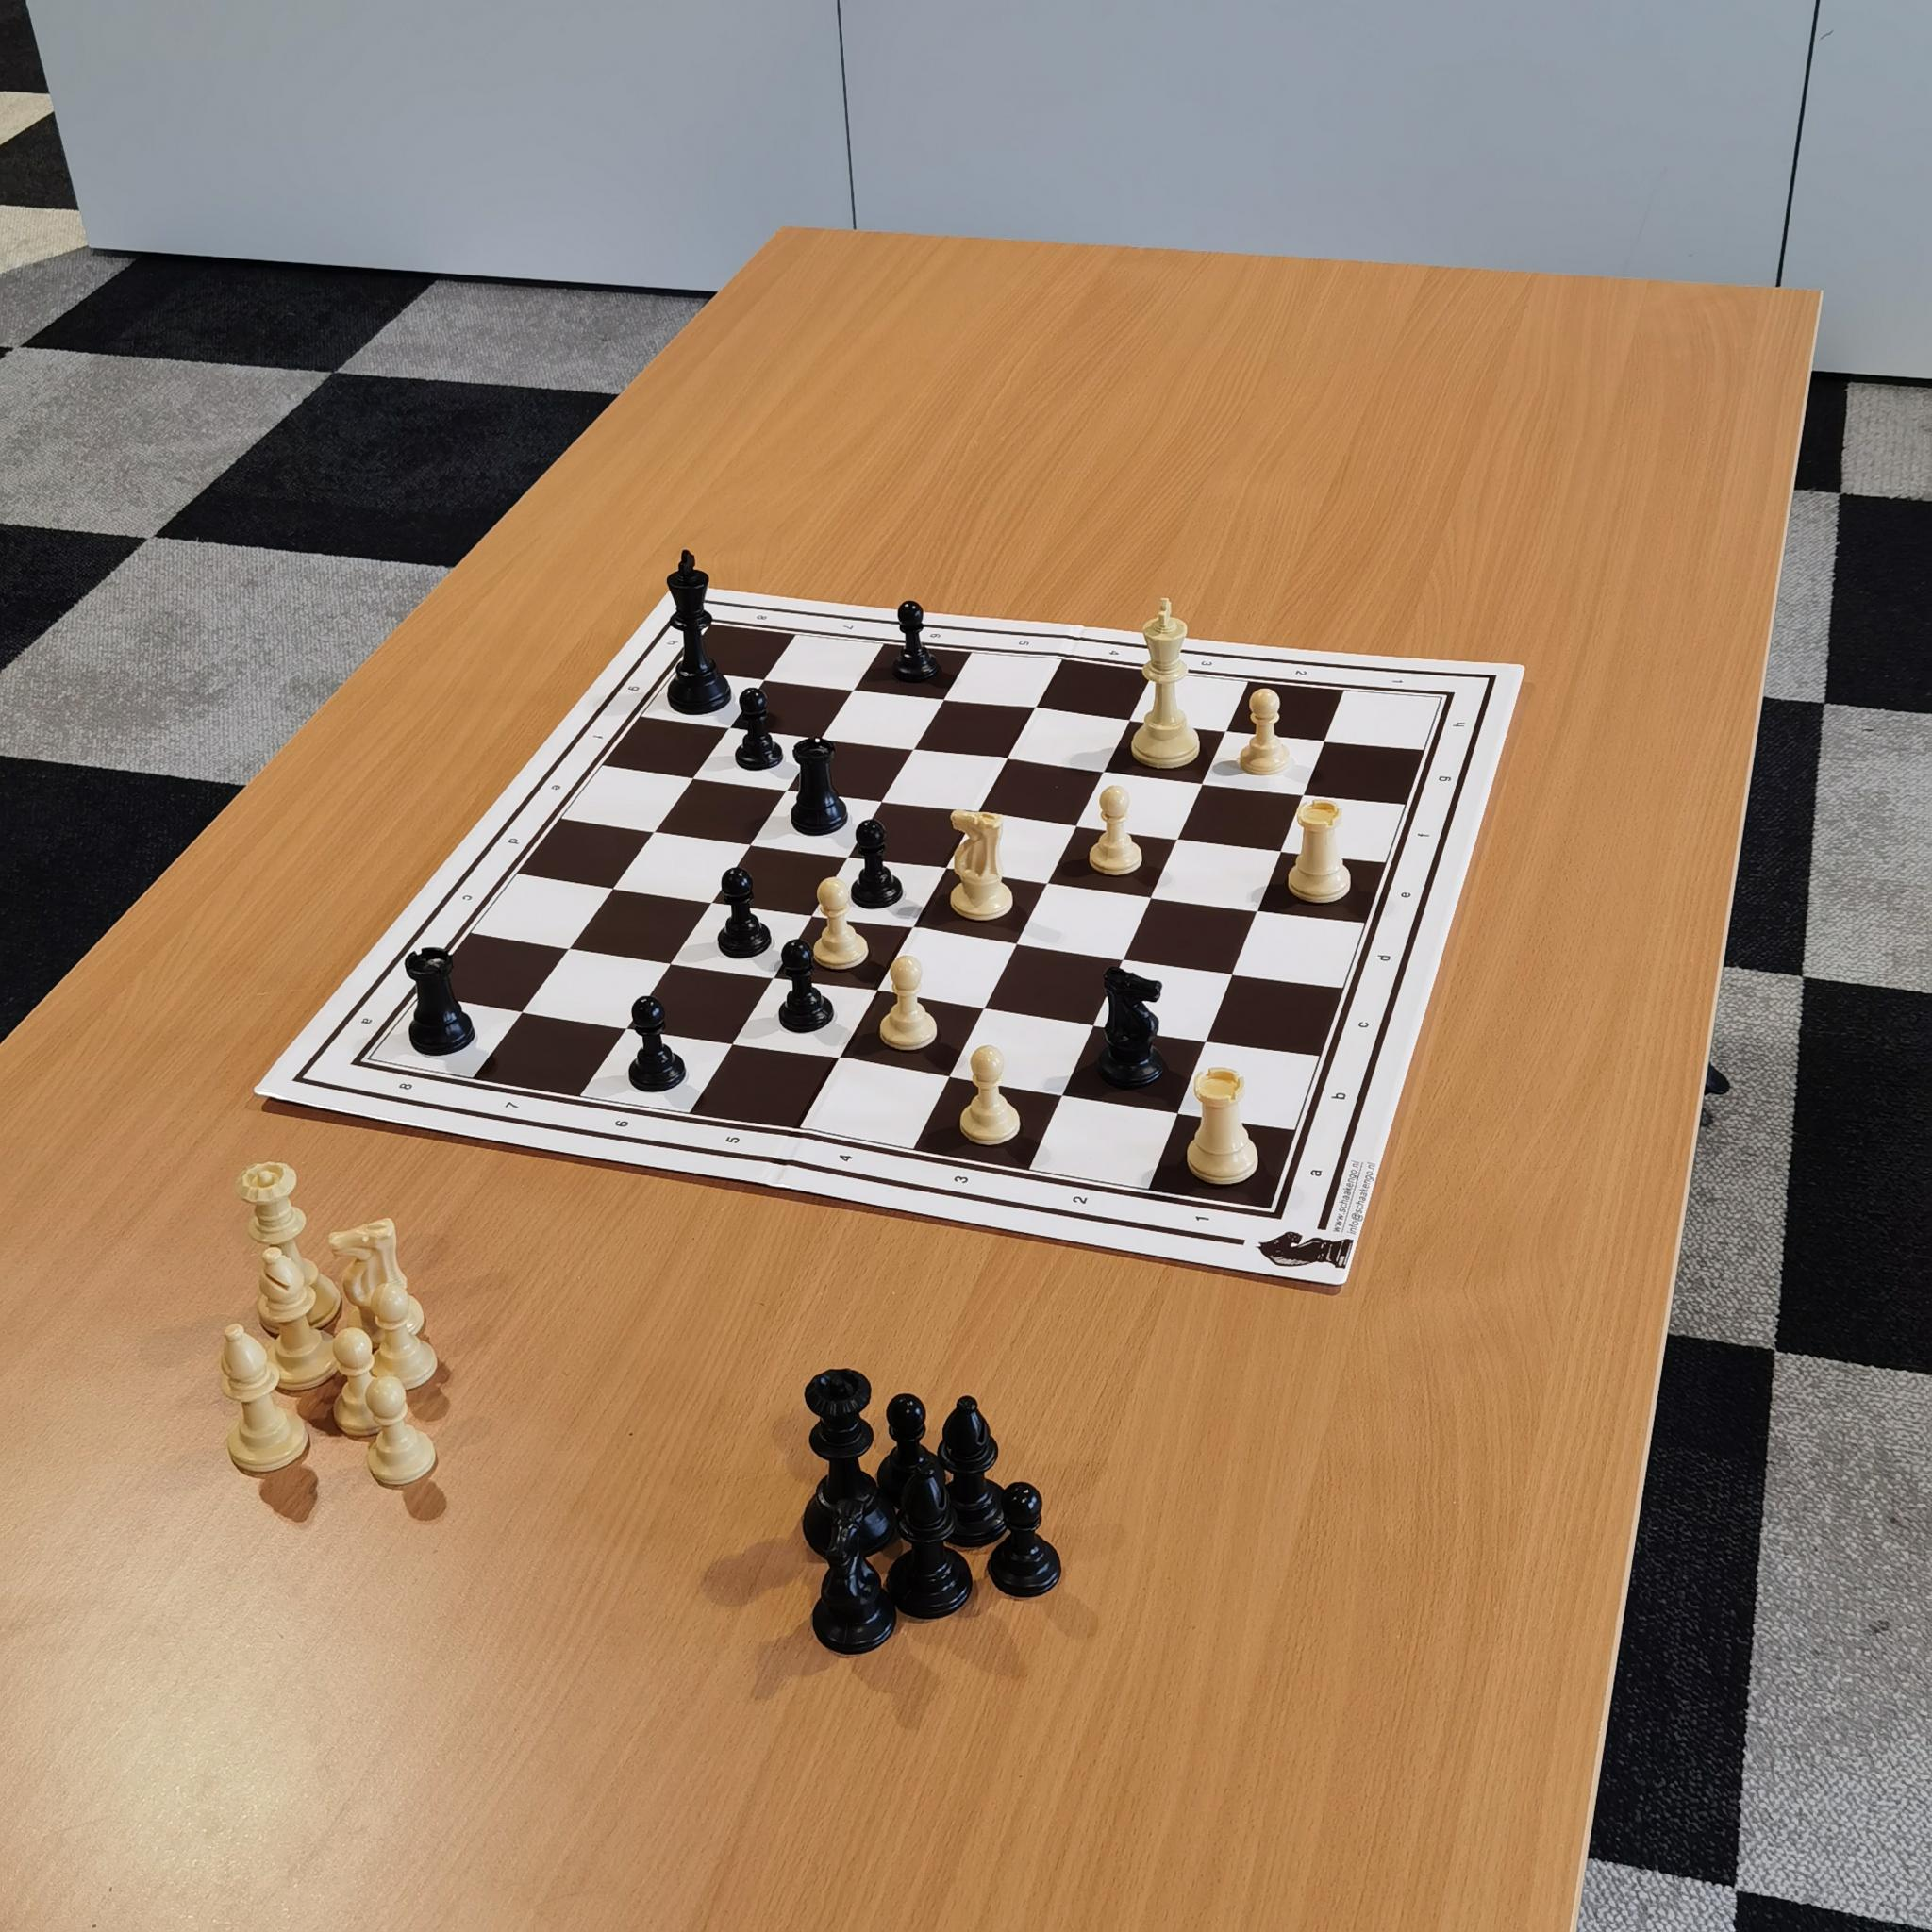corners: (1263, 1192, 1299, 1230), (338, 1051, 377, 1083), (1428, 683, 1461, 711), (694, 612, 729, 637)
eight: (395, 1067, 423, 1100), (747, 602, 775, 628)
one: (1184, 1201, 1217, 1233), (1380, 663, 1414, 694)
